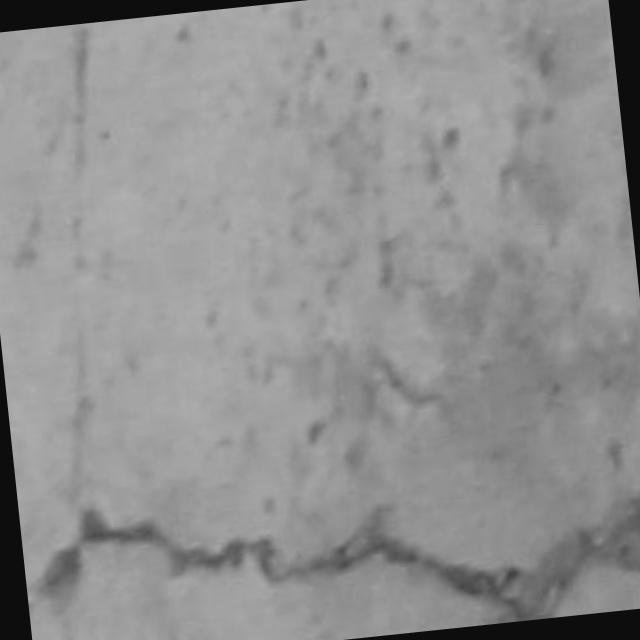crack: (37, 496, 639, 622), (372, 352, 444, 407), (73, 26, 91, 174)
